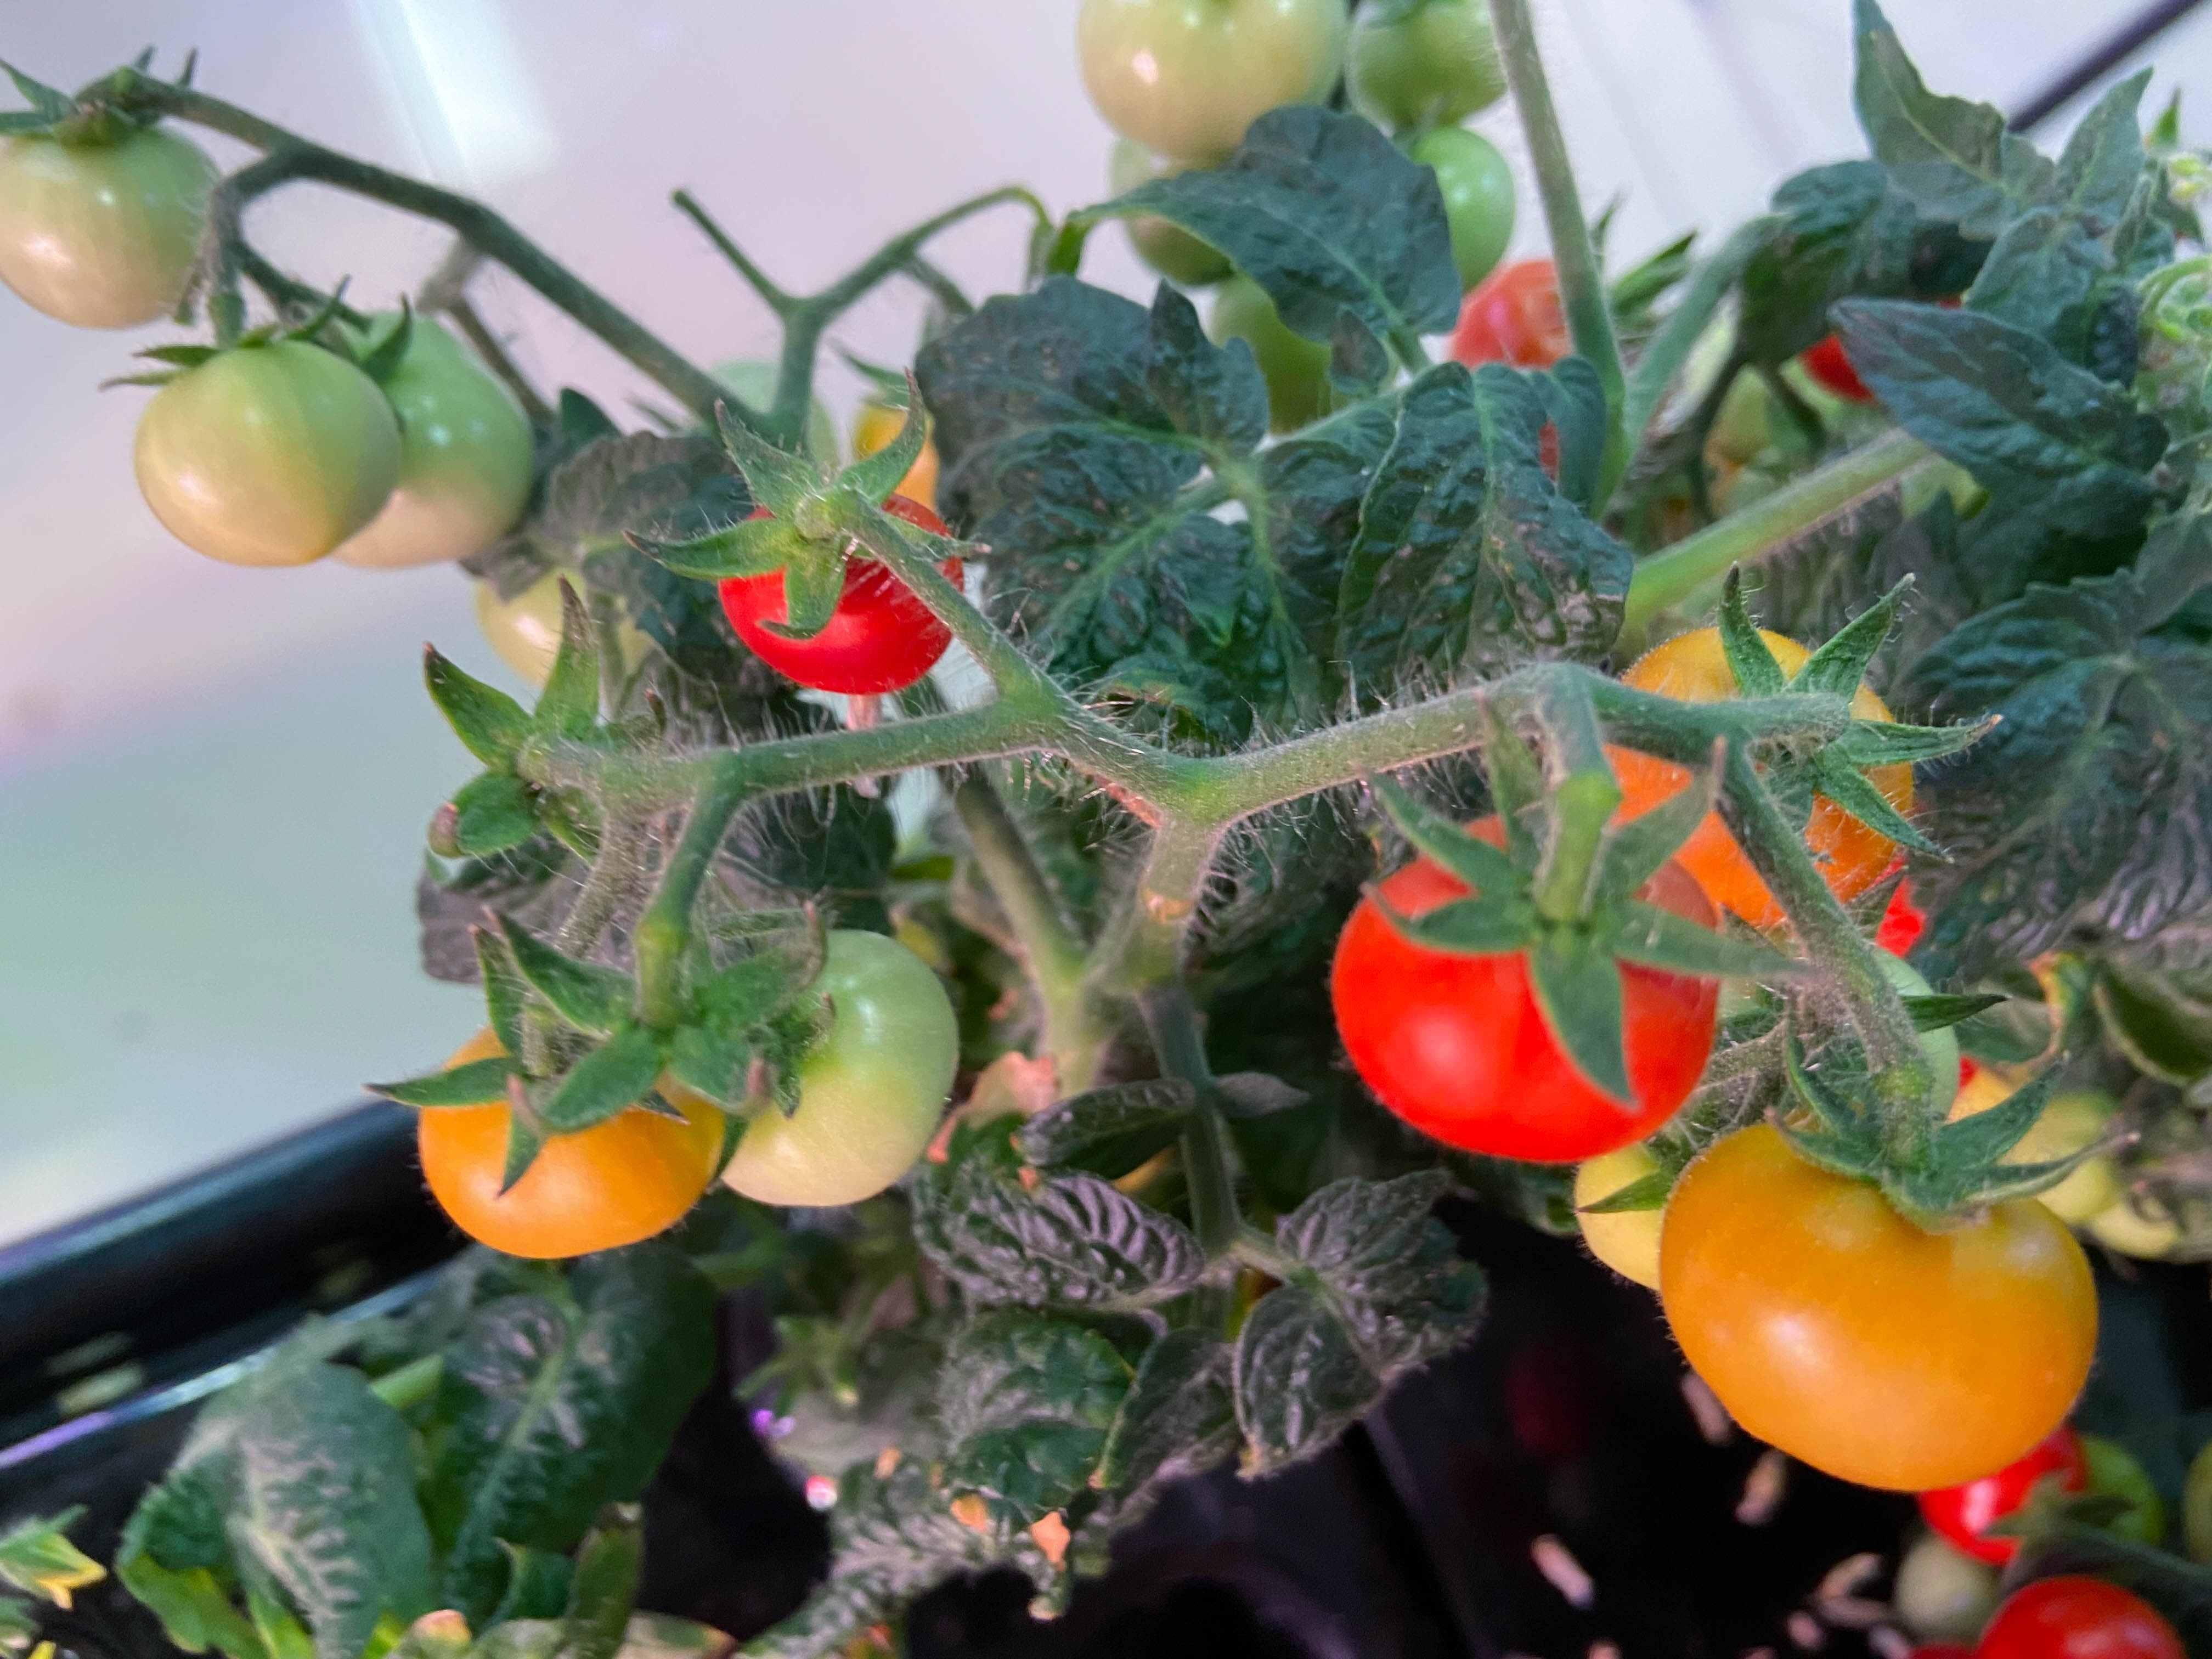green: (698, 920, 963, 1213), (129, 333, 395, 573), (320, 322, 535, 577), (0, 99, 226, 333), (1071, 0, 1350, 167), (1933, 1060, 2142, 1237), (2015, 1086, 2210, 1258), (1573, 1101, 1730, 1291), (472, 545, 644, 714), (1198, 275, 1359, 437), (1350, 0, 1507, 136), (1402, 131, 1517, 289), (1111, 152, 1242, 286)
red: (1653, 1098, 2099, 1502), (1327, 784, 1735, 1169), (1608, 610, 1921, 962), (416, 997, 728, 1262), (718, 439, 974, 699), (1909, 1420, 2144, 1568), (1959, 1577, 2195, 1659), (1444, 254, 1580, 383), (855, 369, 975, 509), (1794, 340, 1865, 397)
